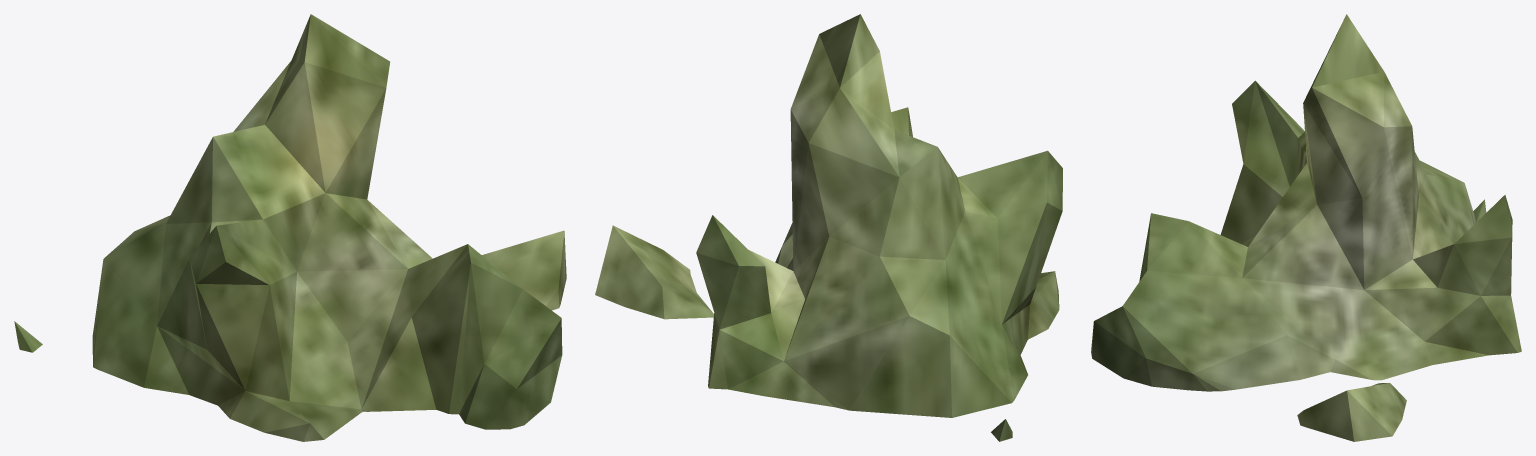
3 renders of one model, left to right at view 1: azimuth 30°, elevation 25°; view 2: azimuth 150°, elevation 25°; view 3: azimuth 270°, elevation 25°, orthographic. The views are drawn at different scales.
Bounding box in the file's own units: 2.04 × 1.33 × 1.68.
1 material, 1 textured.
